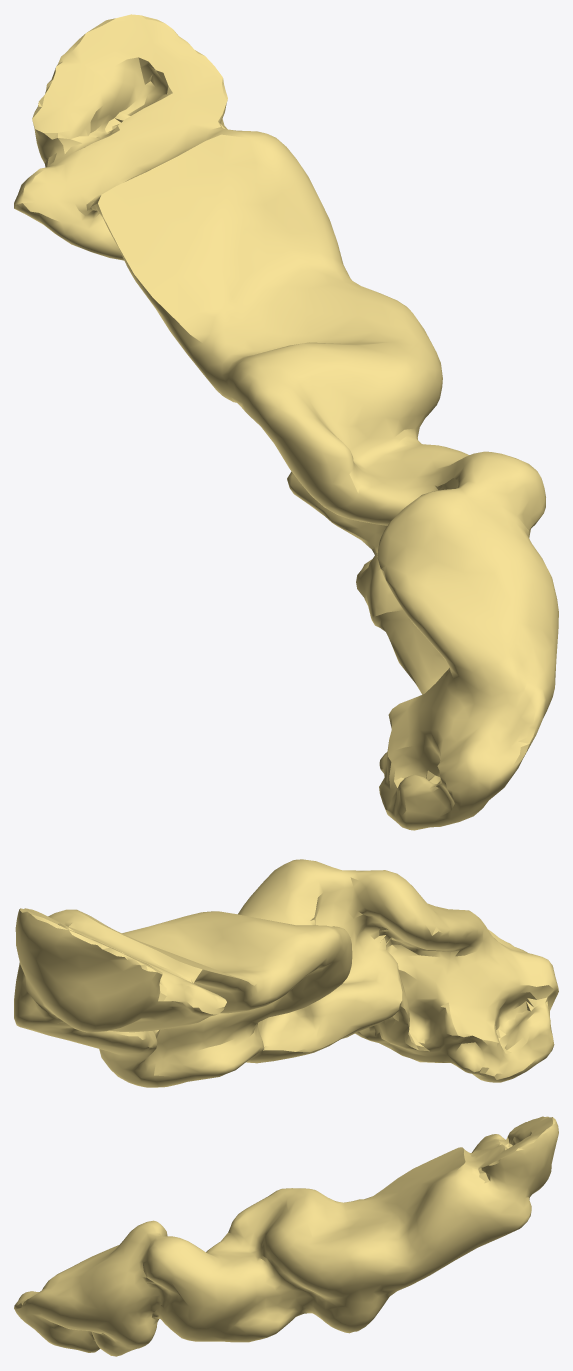
The model's file is fma72686_mm3303.glb.
3 renders of one model, top to bottom at view 1: azimuth 30°, elevation 25°; view 2: azimuth 150°, elevation 25°; view 3: azimuth 270°, elevation 25°, orthographic. The views are drawn at different scales.
Parts seen in each view (by area): view 1: FMA72686_MM3303; view 2: FMA72686_MM3303; view 3: FMA72686_MM3303.
Boxes of the visible parts, <box> form: FMA72686_MM3303: <box>14,14,558,830</box>; FMA72686_MM3303: <box>14,859,558,1087</box>; FMA72686_MM3303: <box>14,1116,558,1356</box>.
Size of the model in its own units: 0.0306 by 0.0489 by 0.0926.
